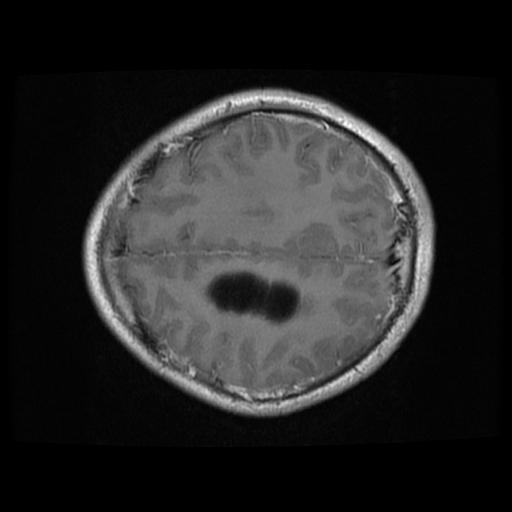glioma: (205, 271, 300, 324)
